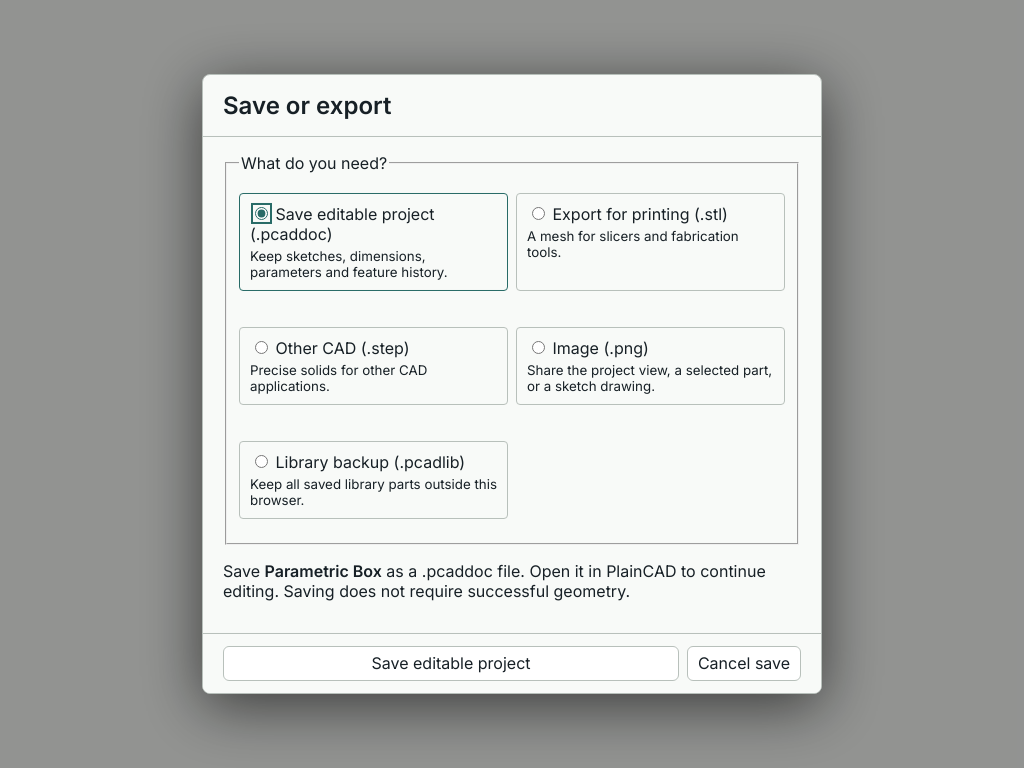
Scenario: keeps missing image selections disabled with a concrete next action
Click the radio button labelled "Image (.png)".
click(538, 347)  # box 532,341 -> 545,354
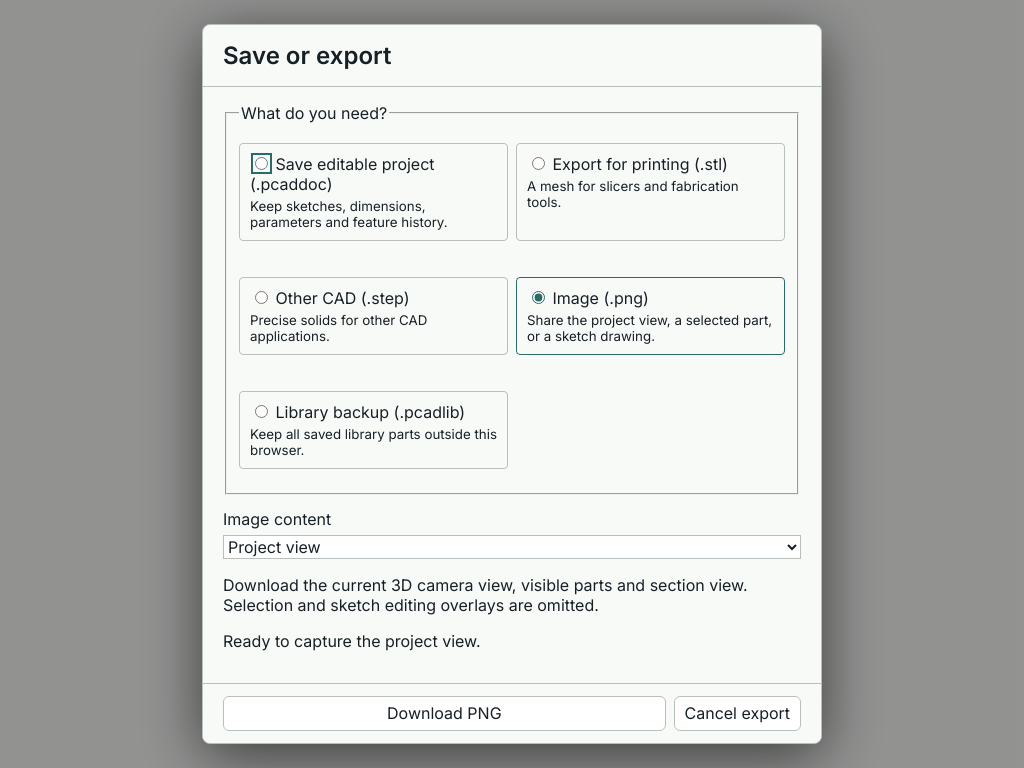
Select "Selected part" in the dropdown labelled "Image content" at (512, 547), box 223,535 -> 801,559
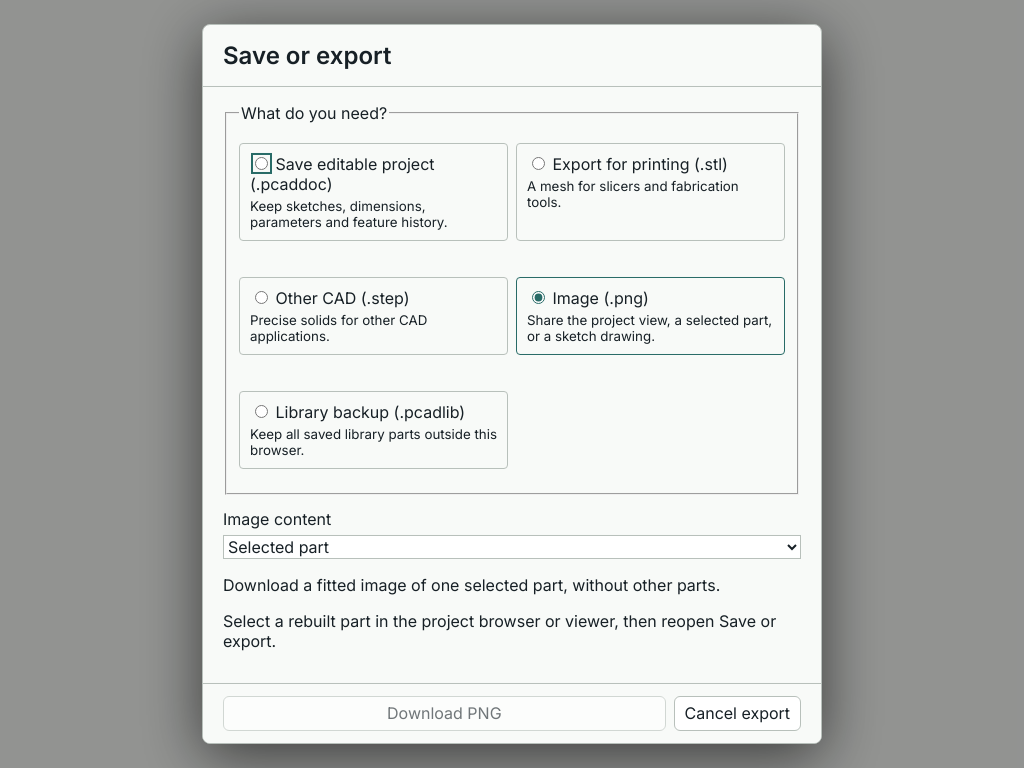
Now the button "Download PNG" is disabled, box 223,696 -> 666,731
Now the message shows "Select a rebuilt part", box 223,611 -> 776,651
